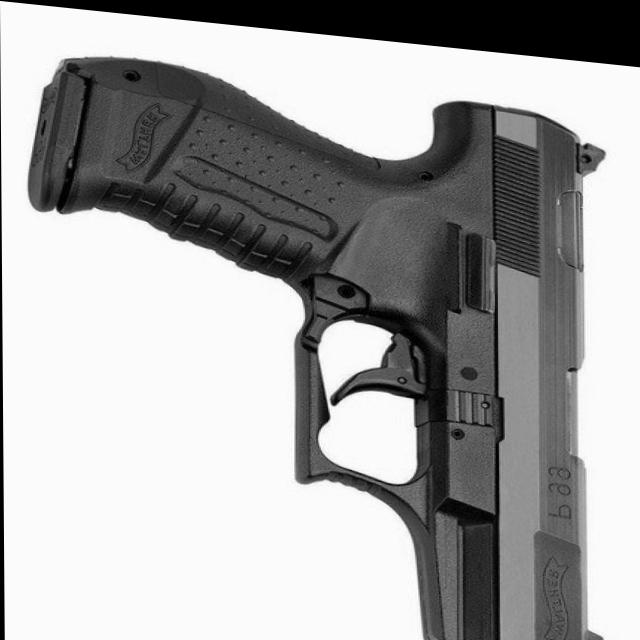handgun: (27, 47, 611, 640)
